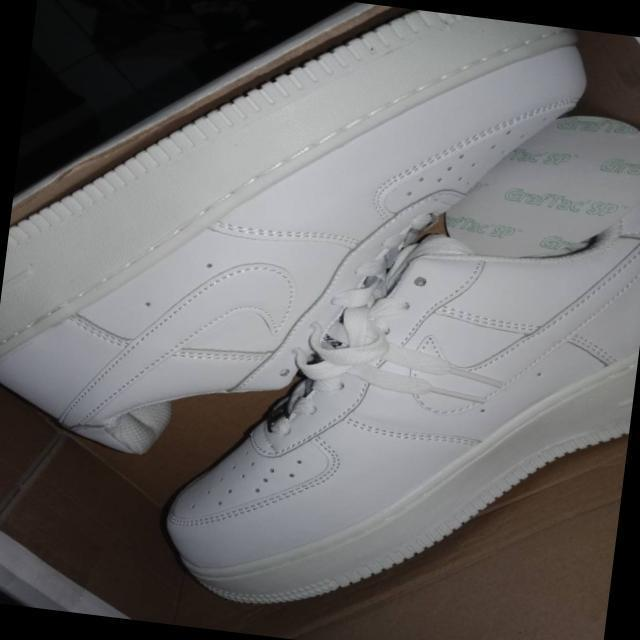nike fake air force: (0, 0, 595, 516), (161, 144, 640, 638)
